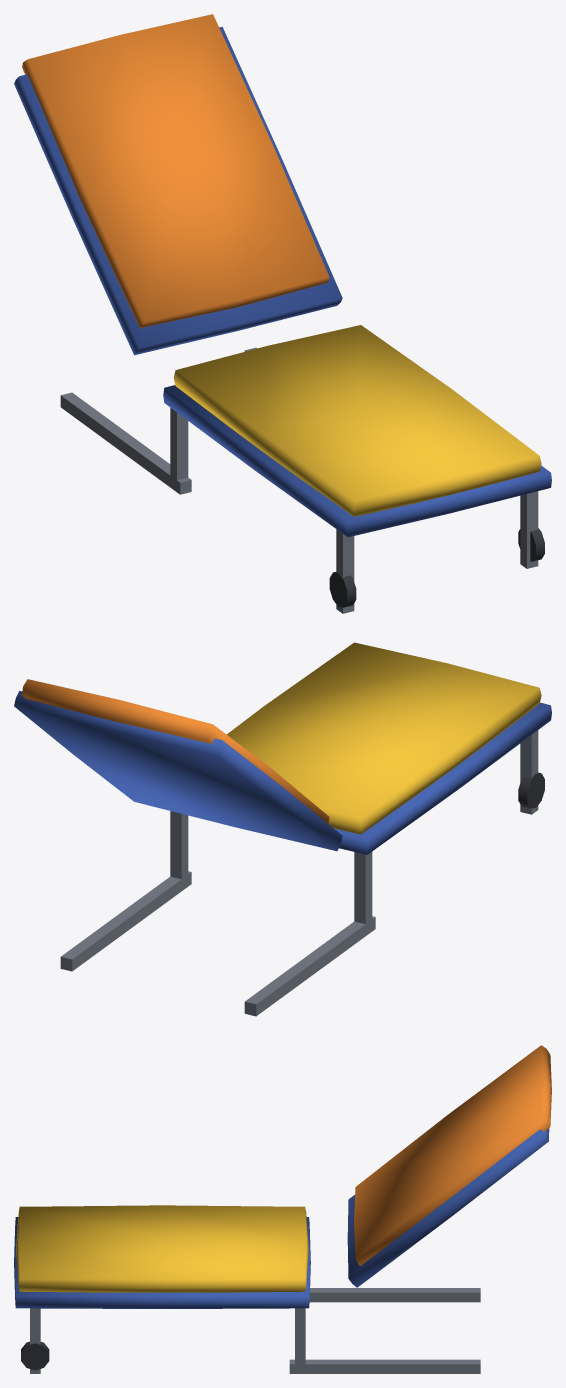
File: lounger.glb
The picture shows the model from 3 angles, top to bottom: view 1: azimuth 30°, elevation 25°; view 2: azimuth 150°, elevation 25°; view 3: azimuth 270°, elevation 25°; orthographic projection. The views are drawn at different scales.
Parts seen in each view (by area): view 1: root; view 2: root; view 3: root.
Boxes of the visible parts, x1,y1,x2,y2 form: root: [14, 14, 551, 613]; root: [14, 642, 551, 1016]; root: [14, 1045, 551, 1373].
Size of the model in its own units: 0.9 by 1.33 by 2.54.
